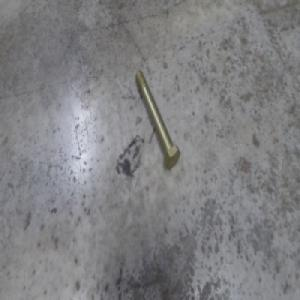Bolt: (134, 68, 179, 168)
